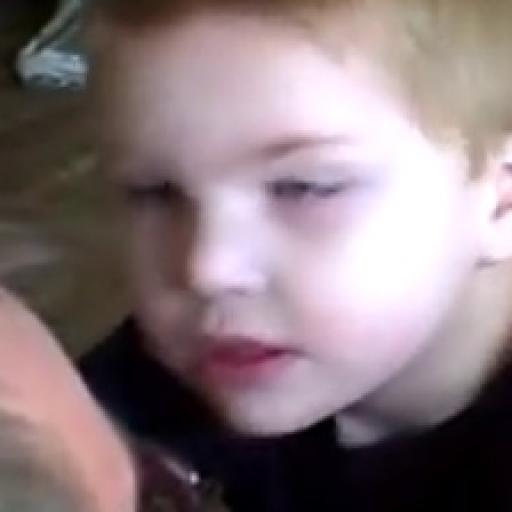Autism: (103, 0, 512, 450)
